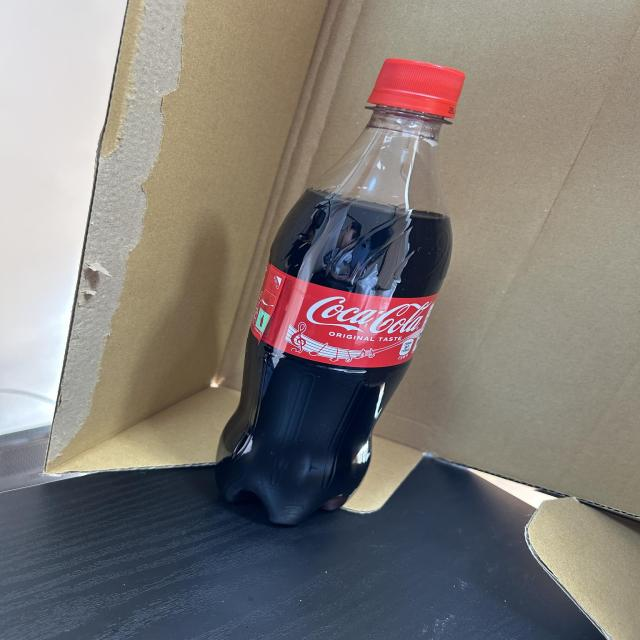high: (216, 60, 464, 525)
